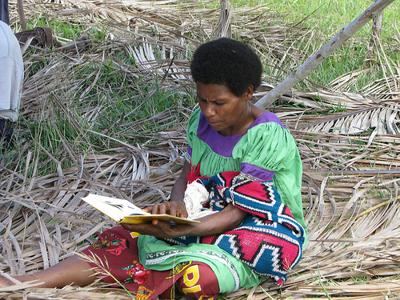person: (5, 38, 307, 300)
